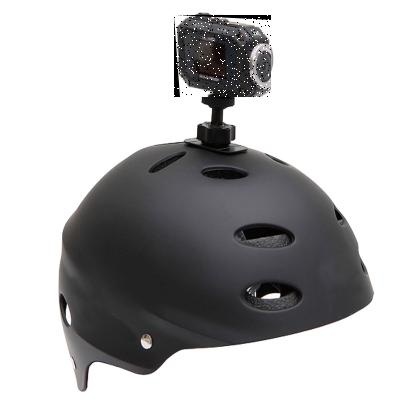Camera: (176, 16, 274, 99)
